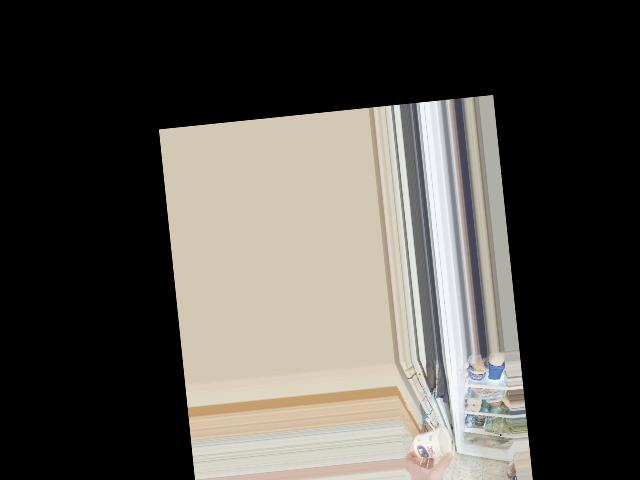cotage: (411, 426, 452, 461)
